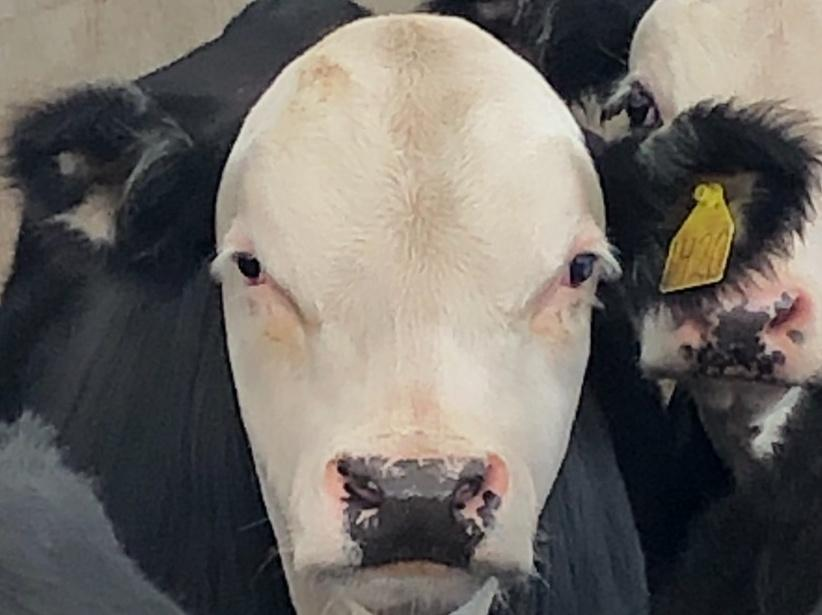muzzles: (283, 431, 546, 615)
